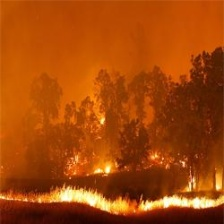fire: (5, 156, 224, 221), (98, 111, 108, 129)
